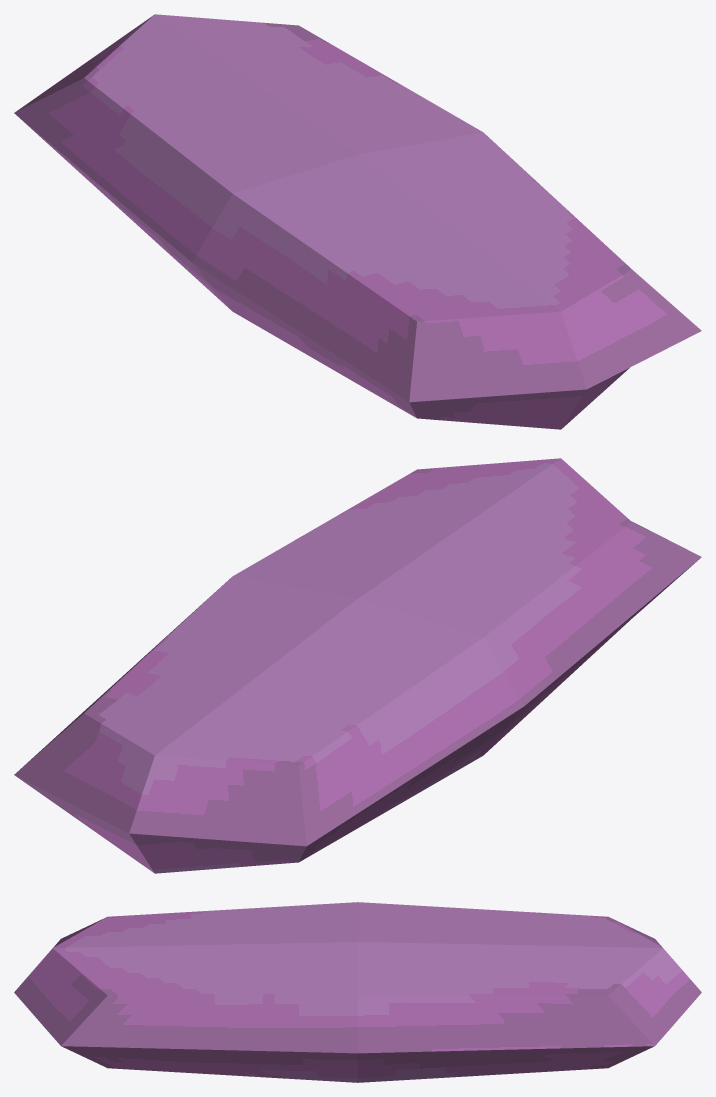
The model's file is TabletMadic1.1.fbx.
The picture shows the model from 3 angles, top to bottom: view 1: azimuth 30°, elevation 25°; view 2: azimuth 150°, elevation 25°; view 3: azimuth 270°, elevation 25°; orthographic projection. The views are drawn at different scales.
Parts seen in each view (by area): view 1: Cube.002; view 2: Cube.002; view 3: Cube.002.
Part boxes in pixels (<box>): Cube.002: <box>14,14,701,429</box>; Cube.002: <box>14,458,701,873</box>; Cube.002: <box>14,902,701,1082</box>.
Size of the model in its own units: 40.11 by 15.53 by 95.74.
Materials: 1 (1 with a texture image).
